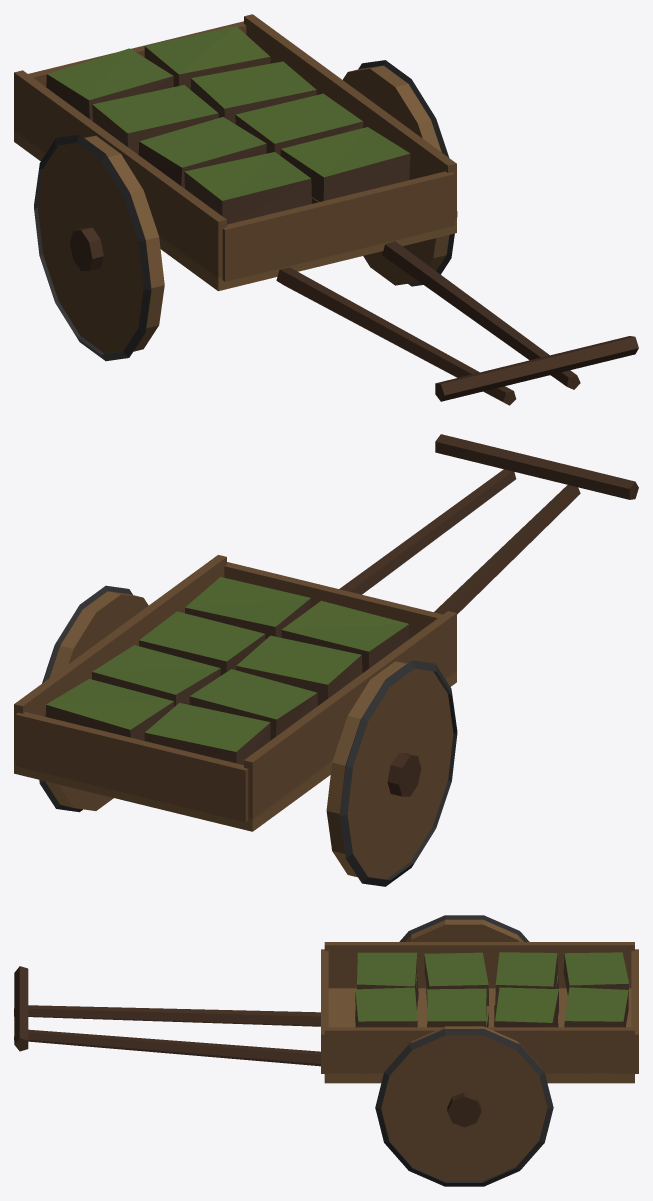
File: c6_kaerre.glb
The picture shows the model from 3 angles, top to bottom: view 1: azimuth 30°, elevation 25°; view 2: azimuth 150°, elevation 25°; view 3: azimuth 270°, elevation 25°; orthographic projection. The views are drawn at different scales.
Visible parts, largest first — view 1: C6_oksekaerre; view 2: C6_oksekaerre; view 3: C6_oksekaerre.
Part boxes in pixels (x1,y1,x2,y2): C6_oksekaerre: [14, 14, 638, 405]; C6_oksekaerre: [14, 434, 638, 886]; C6_oksekaerre: [14, 915, 638, 1186].
Bounding box in the file's own units: 1.86 × 1.12 × 4.03.
